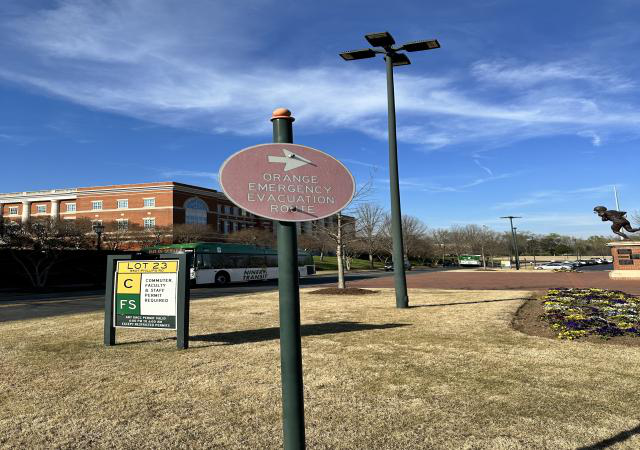not_stop: (219, 145, 357, 224)
